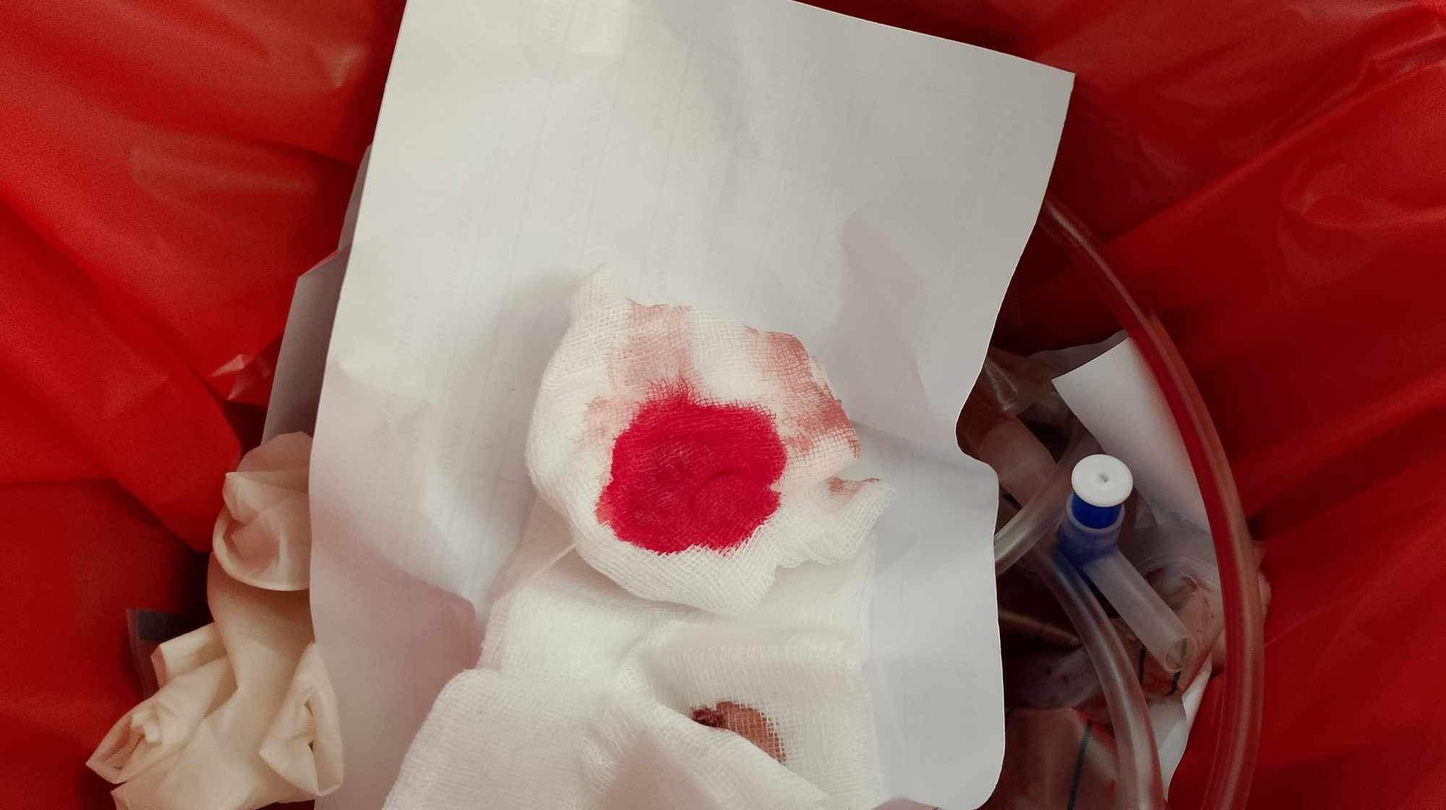General: (90, 3, 1270, 806), (952, 189, 1272, 806)
Infectious: (522, 261, 895, 619)
Sharps: (1053, 451, 1197, 675)
